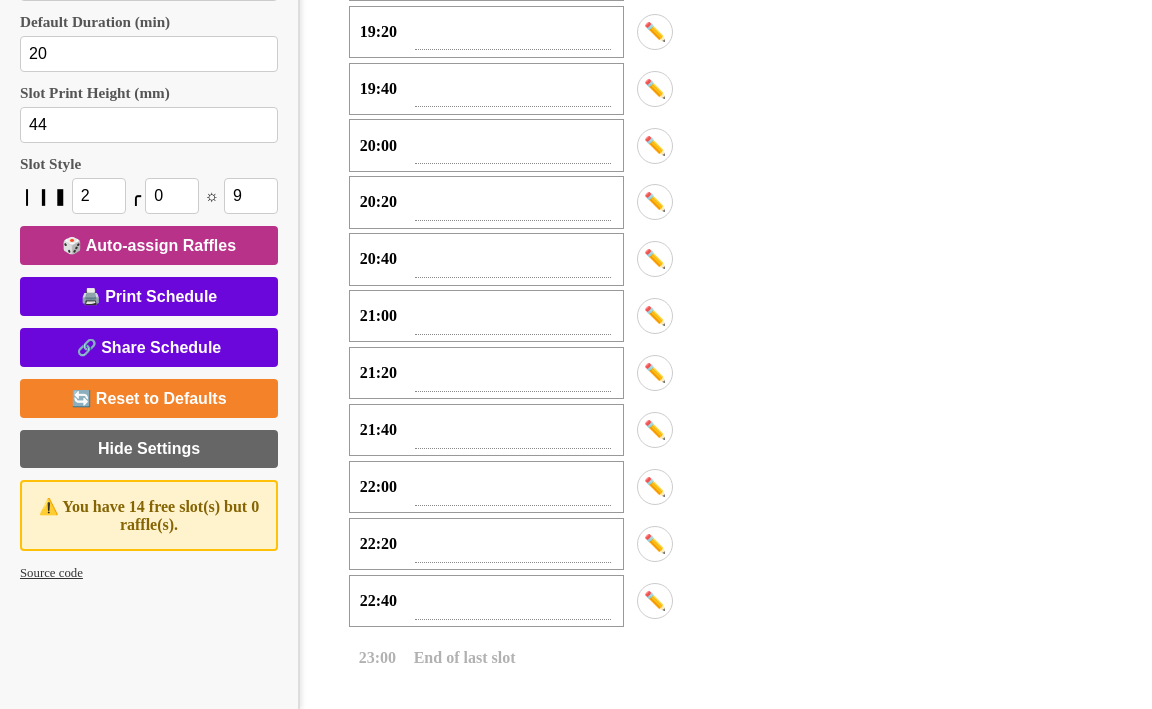
App Component › EndTime component › should update end time when last slot has custom duration
(page scrolled)
// Edit the last slot
Click the button titled "Edit slot" in the row of "22:40".
click(655, 601)  # box top-left (637, 583), bottom-right (673, 619)
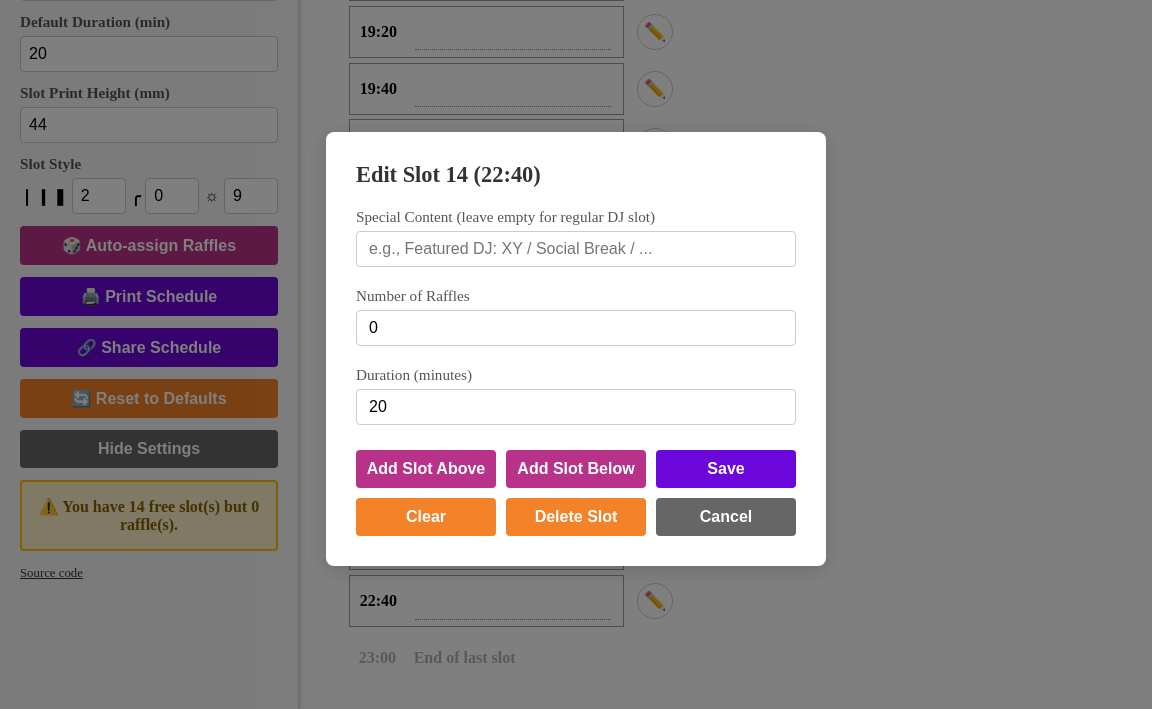
// Set custom duration for last slot
Replace the text in the number field labelled "Duration (minutes)" with "60" at (576, 407), box top-left (356, 389), bottom-right (796, 425)
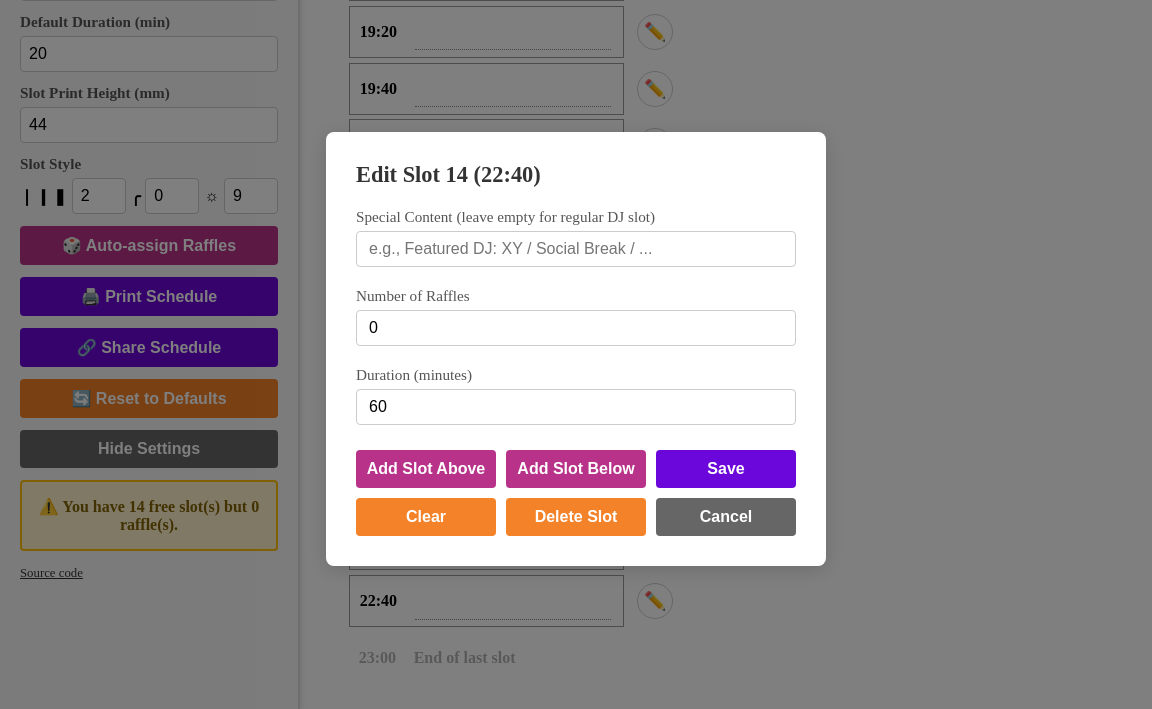
Click the button "Save".
click(726, 469)  # box top-left (656, 450), bottom-right (796, 488)
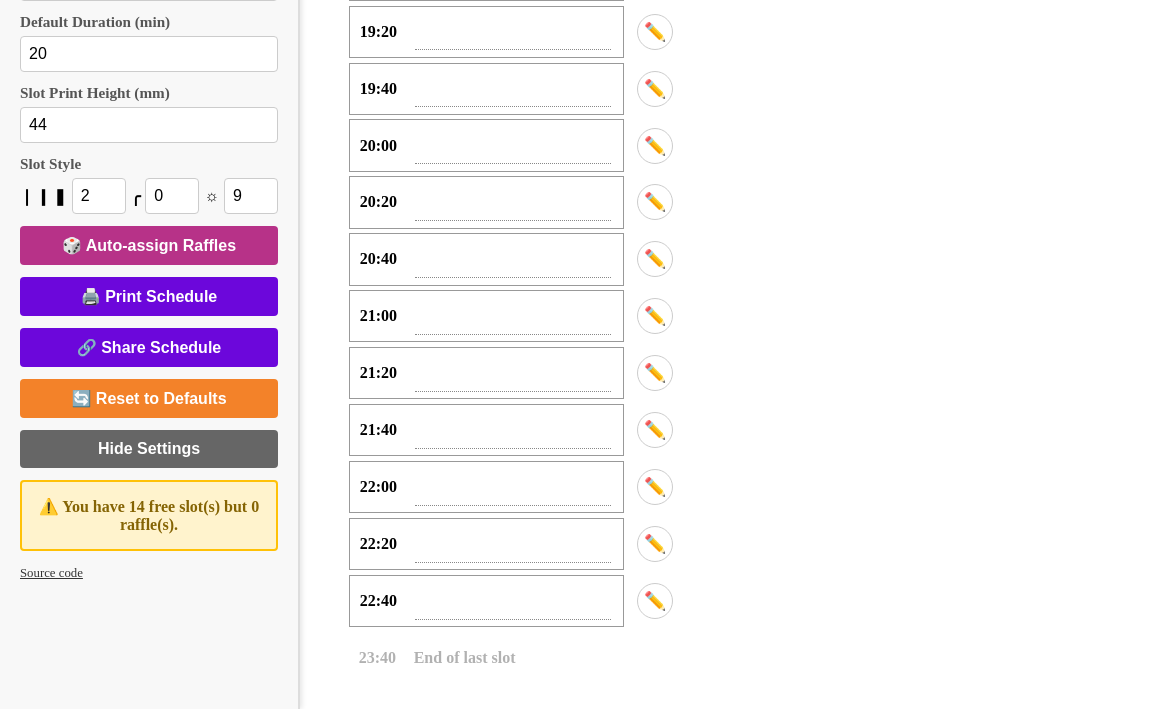
Expected: the text "23:40" is shown, top-left (359, 649), bottom-right (396, 667)
